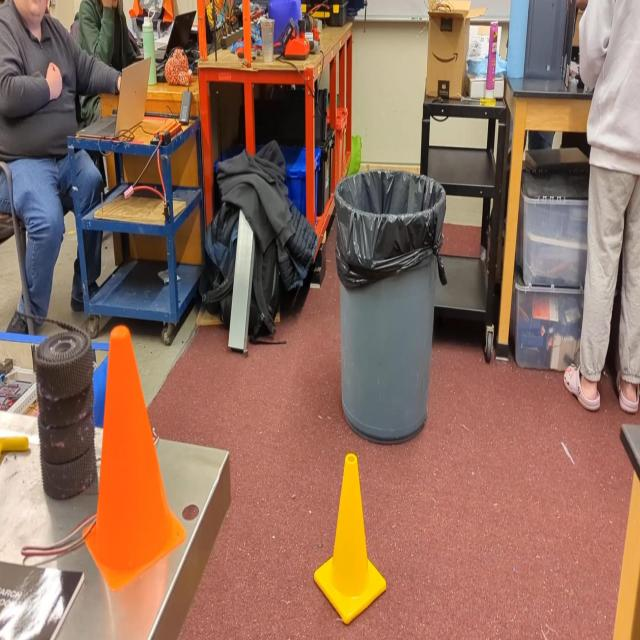frc_cone: (307, 454, 388, 627)
